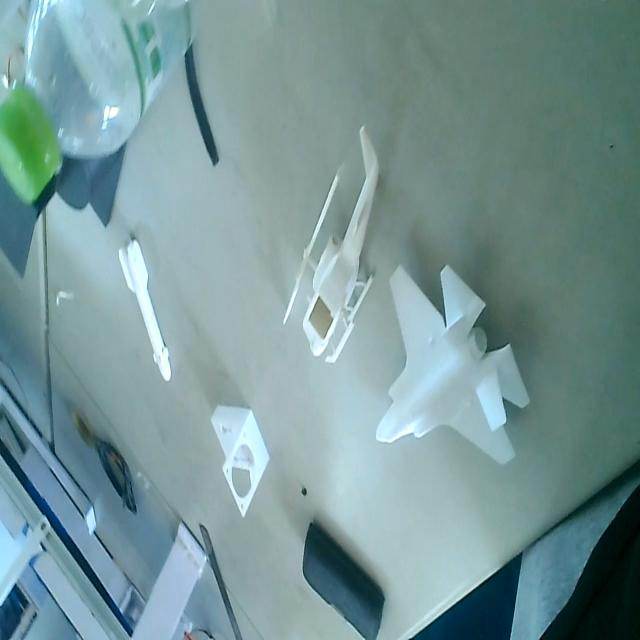Helicopter: (284, 122, 382, 369)
Jet: (375, 262, 531, 482)
Rocket: (116, 230, 174, 387)
